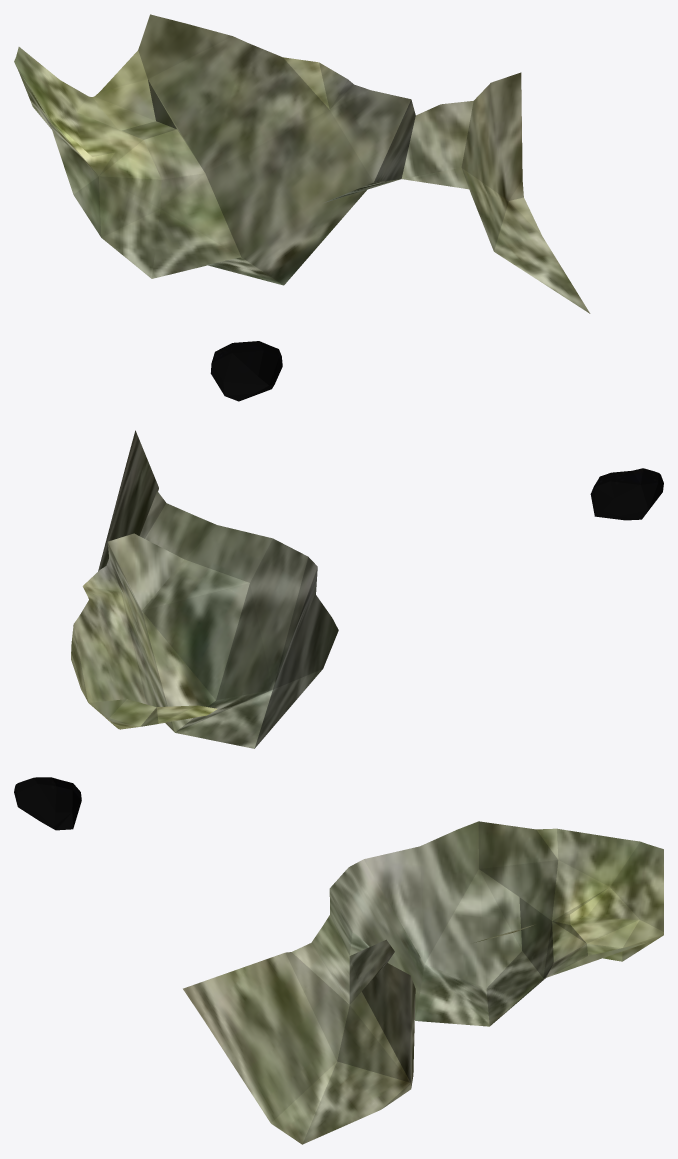
3 renders of one model, top to bottom at view 1: azimuth 30°, elevation 25°; view 2: azimuth 150°, elevation 25°; view 3: azimuth 270°, elevation 25°, orthographic. The views are drawn at different scales.
Size of the model in its own units: 2.25 by 0.7753 by 2.93.
1 material, 1 textured.
